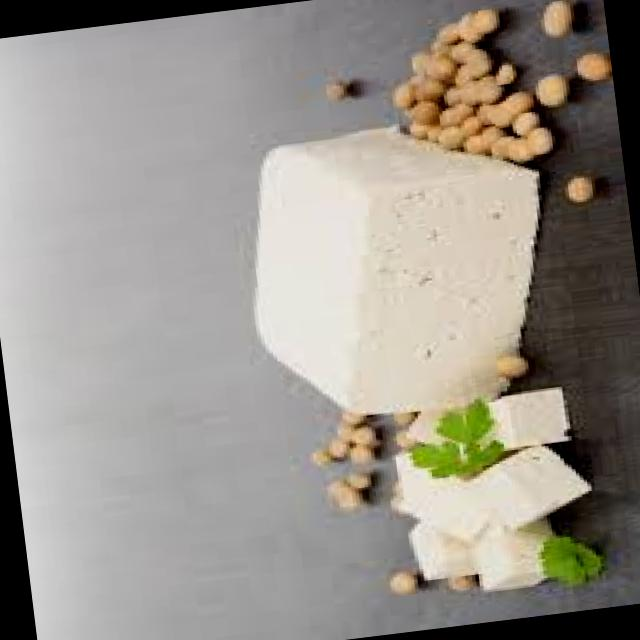tof: (198, 73, 569, 445)
